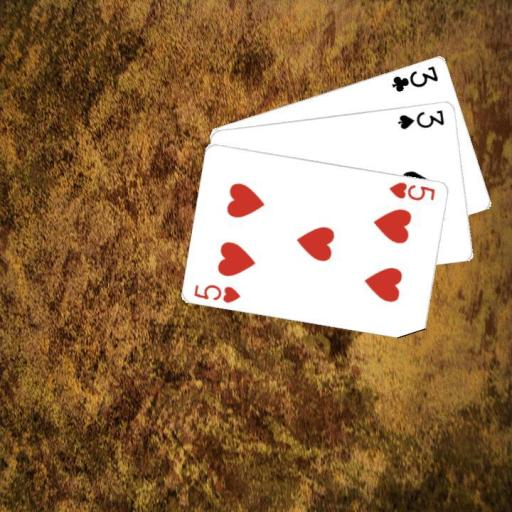3C: (388, 62, 440, 93)
3S: (395, 106, 446, 130)
5H: (386, 178, 437, 202), (192, 281, 243, 304)
